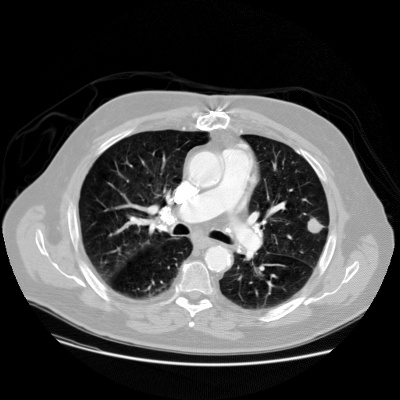PN: (306, 218, 322, 234)
